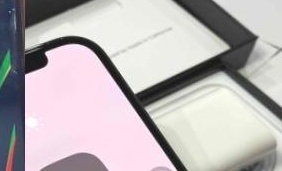physical_damage: (0, 0, 23, 108)
